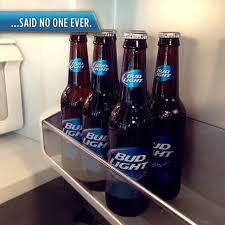beer: (56, 29, 187, 218)
